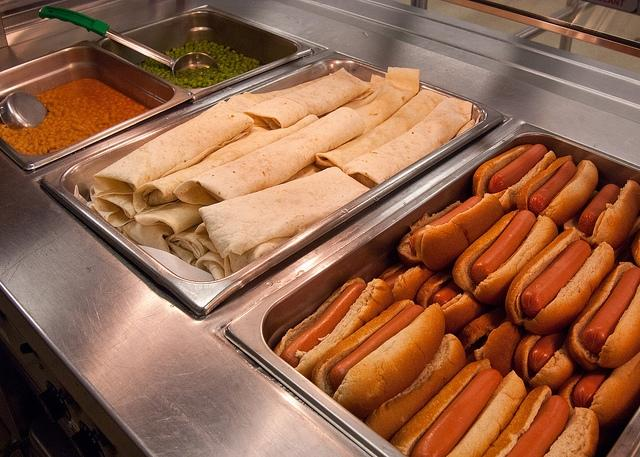pea: (192, 82, 197, 89), (210, 74, 217, 79), (150, 60, 156, 65), (229, 64, 235, 69), (154, 64, 160, 68), (198, 78, 204, 82), (184, 46, 190, 50), (194, 48, 200, 52), (225, 70, 230, 74), (230, 60, 236, 63), (226, 63, 232, 66), (219, 78, 224, 81), (180, 86, 184, 89), (180, 52, 184, 55), (184, 77, 190, 79), (167, 55, 171, 58), (200, 42, 203, 46), (162, 73, 165, 76), (233, 70, 236, 73), (217, 58, 220, 61), (170, 79, 174, 81), (217, 46, 221, 48), (233, 54, 236, 56), (203, 78, 206, 80), (138, 63, 142, 64)
